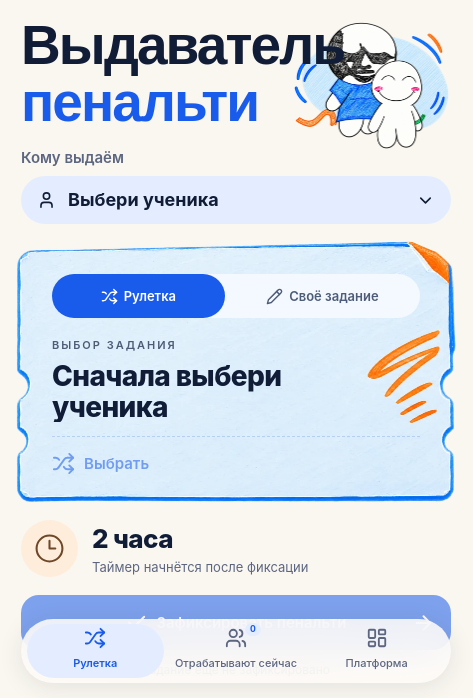
Test case: preview does not commit and controls have distinct names
The image size is (473, 698).
Select "@demo_peer" in the dropdown labelled "Кому выдаём" at (236, 200), box [66,176,406,224]
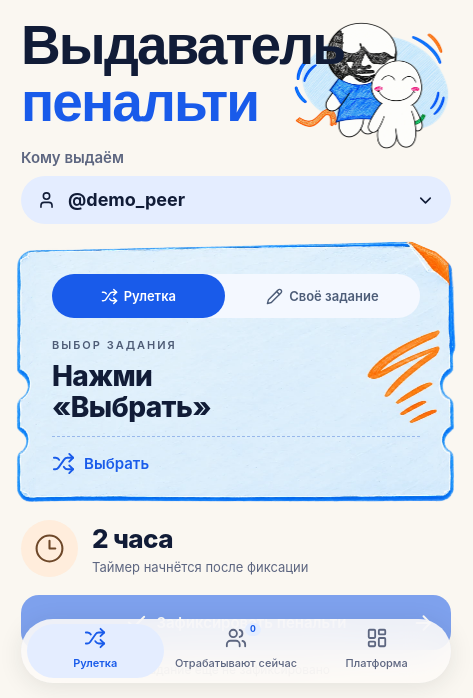
Click the button "Выбрать" at (117, 464), box [52,436,420,480]
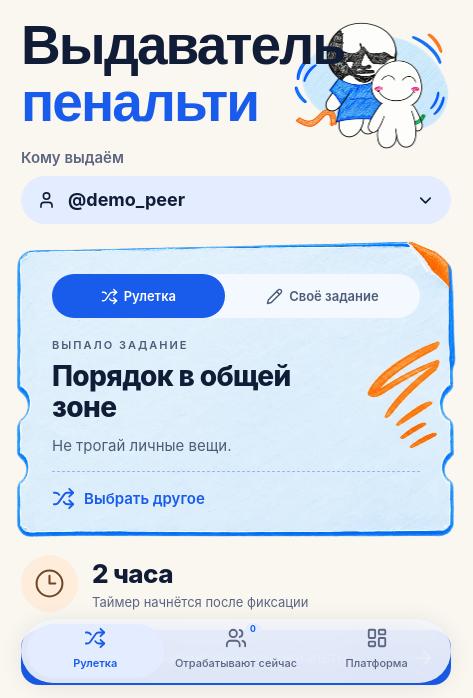
Expected: the heading "Выдаватель пенальти" is shown, [21,17,309,131]
Now the button "Выбрать другое" is enabled, box [52,471,420,515]
Now the button "Зафиксировать пенальти" is enabled, box [21,630,451,685]
